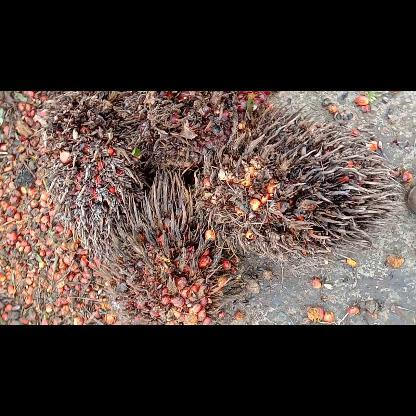Terlalu masak: (190, 100, 410, 270), (98, 168, 252, 324), (32, 90, 156, 262), (113, 91, 242, 173)
